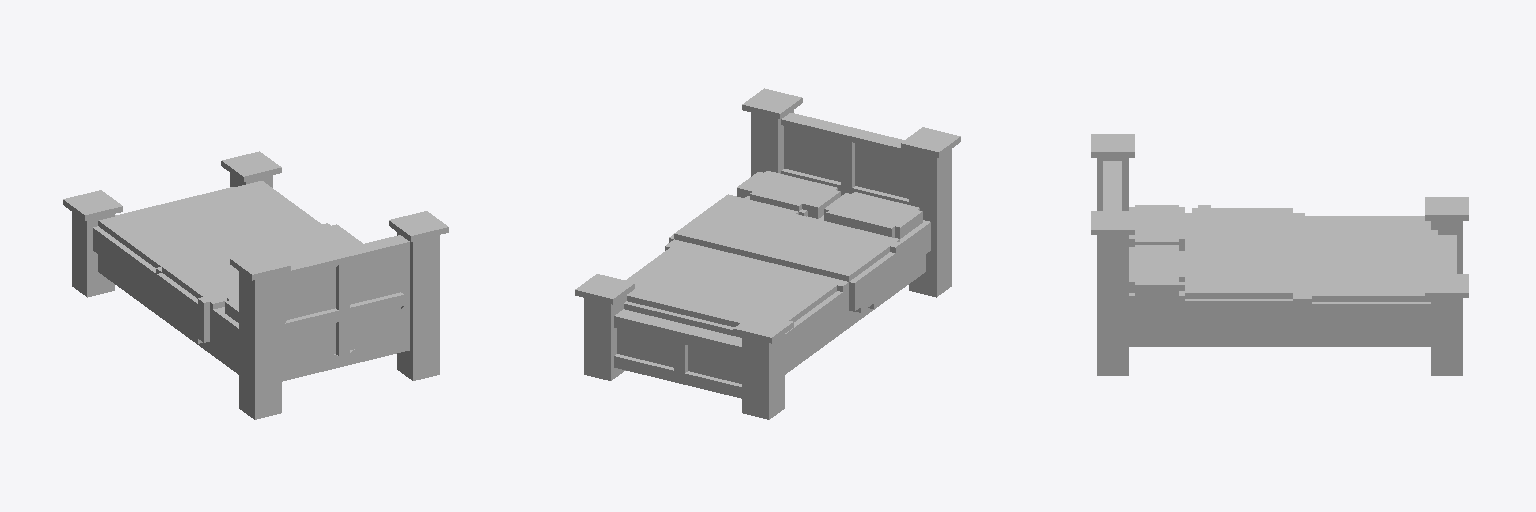
The model's file is Bed_optimized.obj.
3 views of the same model, side by side, from view 1: azimuth 30°, elevation 25°; view 2: azimuth 150°, elevation 25°; view 3: azimuth 270°, elevation 25° (orthographic).
Visible parts, largest first — view 1: Polygon; view 2: Polygon; view 3: Polygon.
Part boxes in pixels (bbox=[...]): Polygon: bbox=[63, 151, 448, 419]; Polygon: bbox=[575, 88, 960, 419]; Polygon: bbox=[1091, 134, 1468, 375].
Bounding box in the file's own units: 162 × 117 × 271.